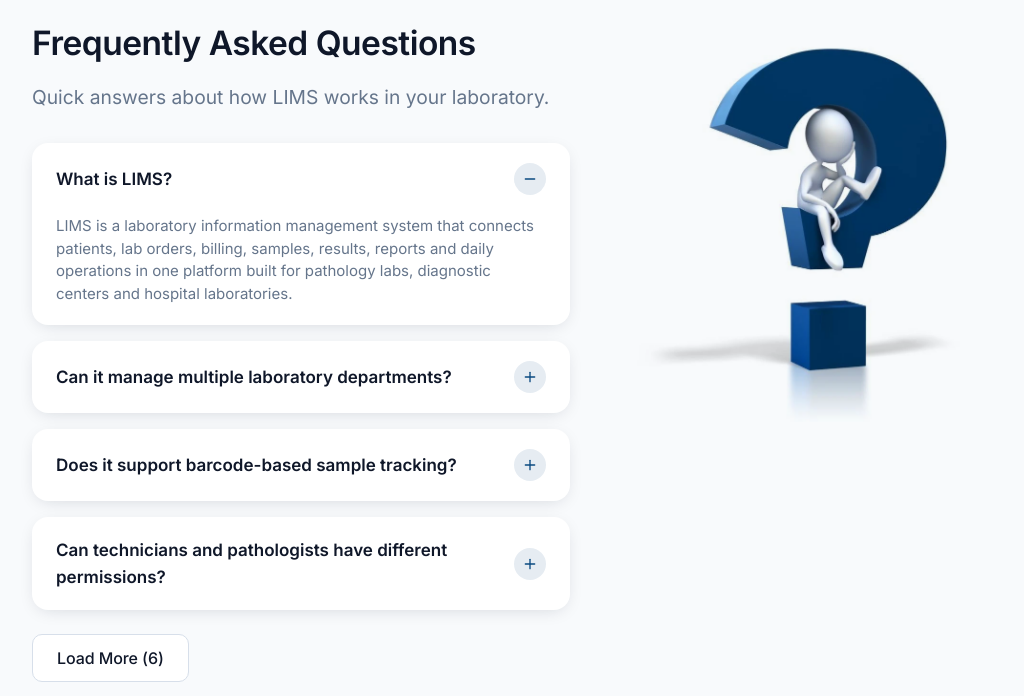
Scenario: Faq › “Show Less” folds it back to four and keeps the button in view
The image size is (1024, 696).
Click the button "Load More (6)": (110, 658) left=32, top=634, right=189, bottom=682
(page scrolled)
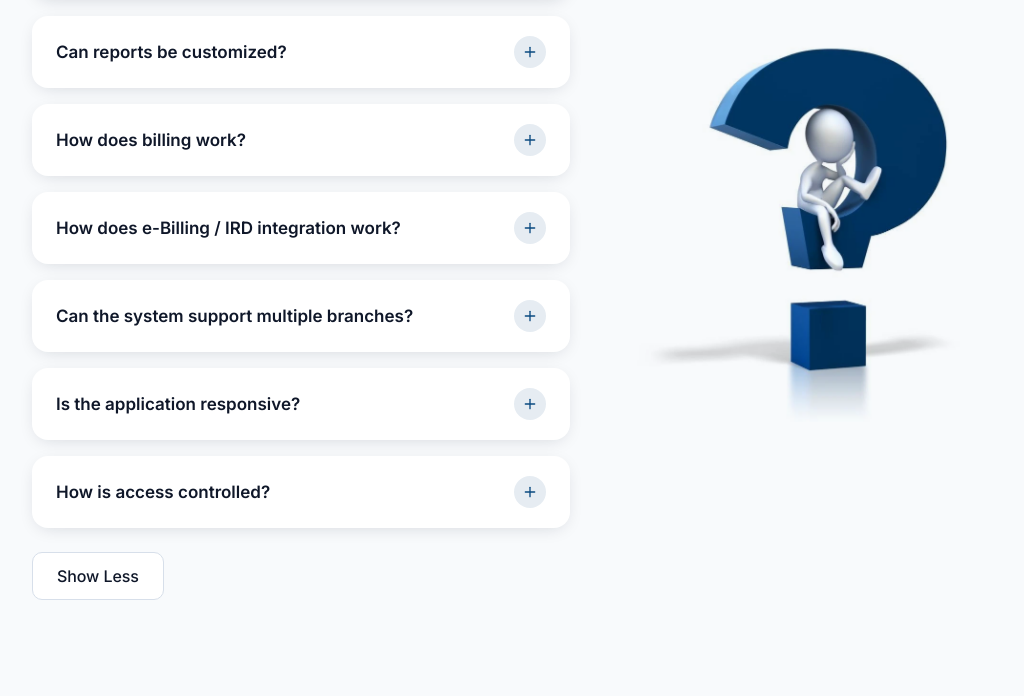
Click the button "Show Less": (98, 576) left=32, top=552, right=164, bottom=600
(page scrolled)
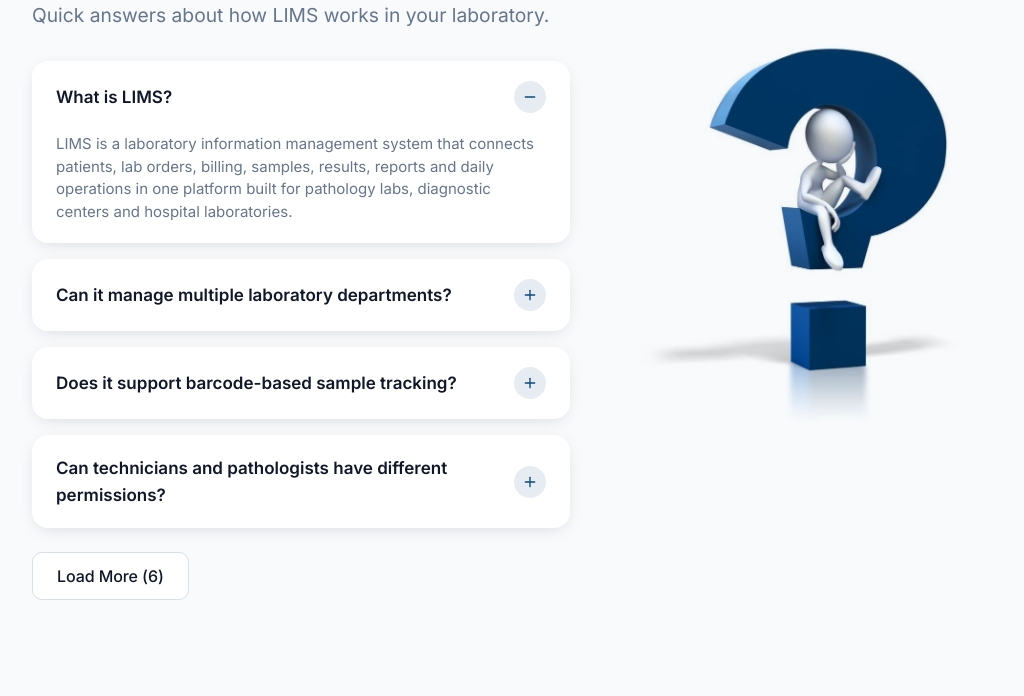
Now the button "Load More (6)" is shown, box left=32, top=552, right=189, bottom=600
